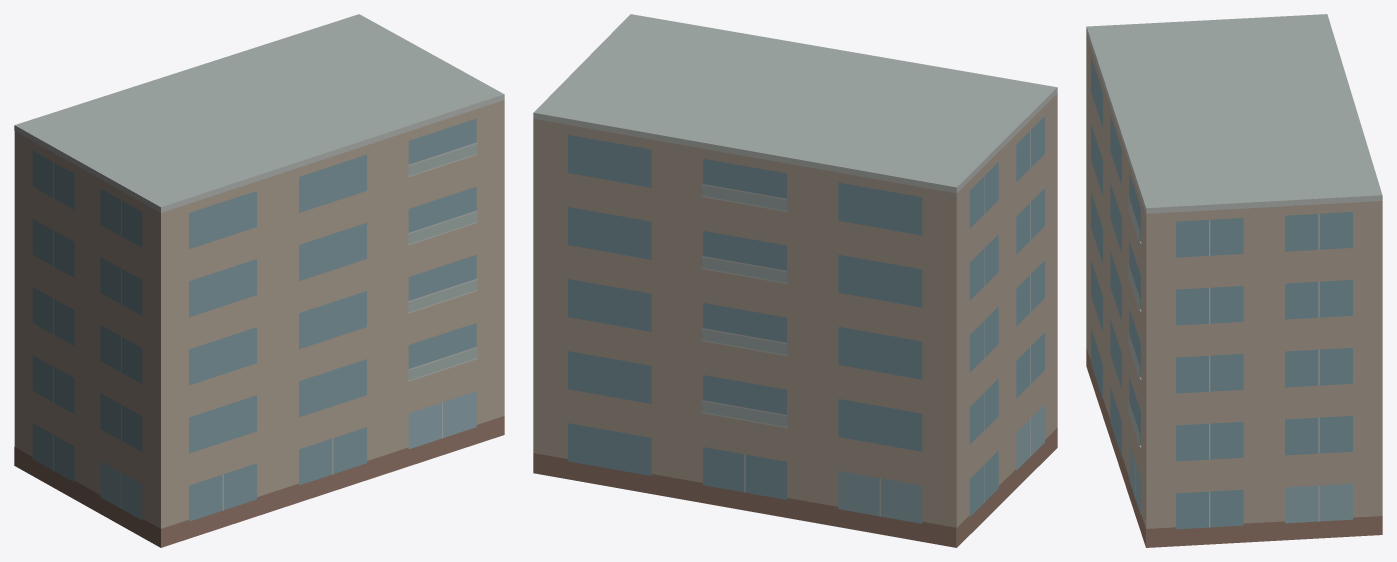
File: survey-upis-32995361.glb
3 renders of one model, left to right at view 1: azimuth 30°, elevation 25°; view 2: azimuth 150°, elevation 25°; view 3: azimuth 270°, elevation 25°, orthographic. The views are drawn at different scales.
Visible parts, largest first — view 1: survey-upis-32995361.tmp; view 2: survey-upis-32995361.tmp; view 3: survey-upis-32995361.tmp.
Part boxes in pixels (x1=…): survey-upis-32995361.tmp: x1=14, y1=14, x2=504, y2=547; survey-upis-32995361.tmp: x1=533, y1=14, x2=1057, y2=547; survey-upis-32995361.tmp: x1=1086, y1=14, x2=1382, y2=547.
Bounding box in the file's own units: 17.85 × 14.55 × 11.51.
